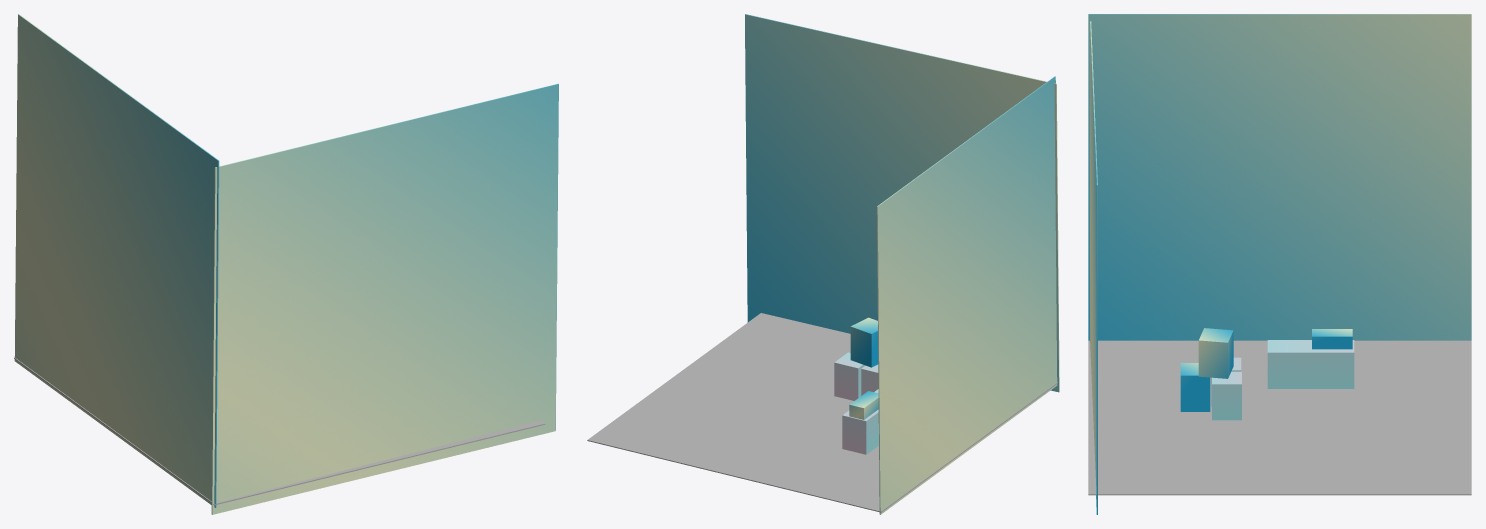
3 renders of one model, left to right at view 1: azimuth 30°, elevation 25°; view 2: azimuth 150°, elevation 25°; view 3: azimuth 270°, elevation 25°, orthographic. The views are drawn at different scales.
Parts seen in each view (by area): view 1: pCube31; view 2: pCube31; view 3: pCube31.
Boxes of the visible parts, box(x1,y1,x2,y2) form: pCube31: box(14, 14, 558, 514); pCube31: box(587, 14, 1059, 514); pCube31: box(1088, 14, 1471, 514).
Size of the model in its own units: 102 by 99.73 by 102.
Materials: 3 (2 with a texture image).
